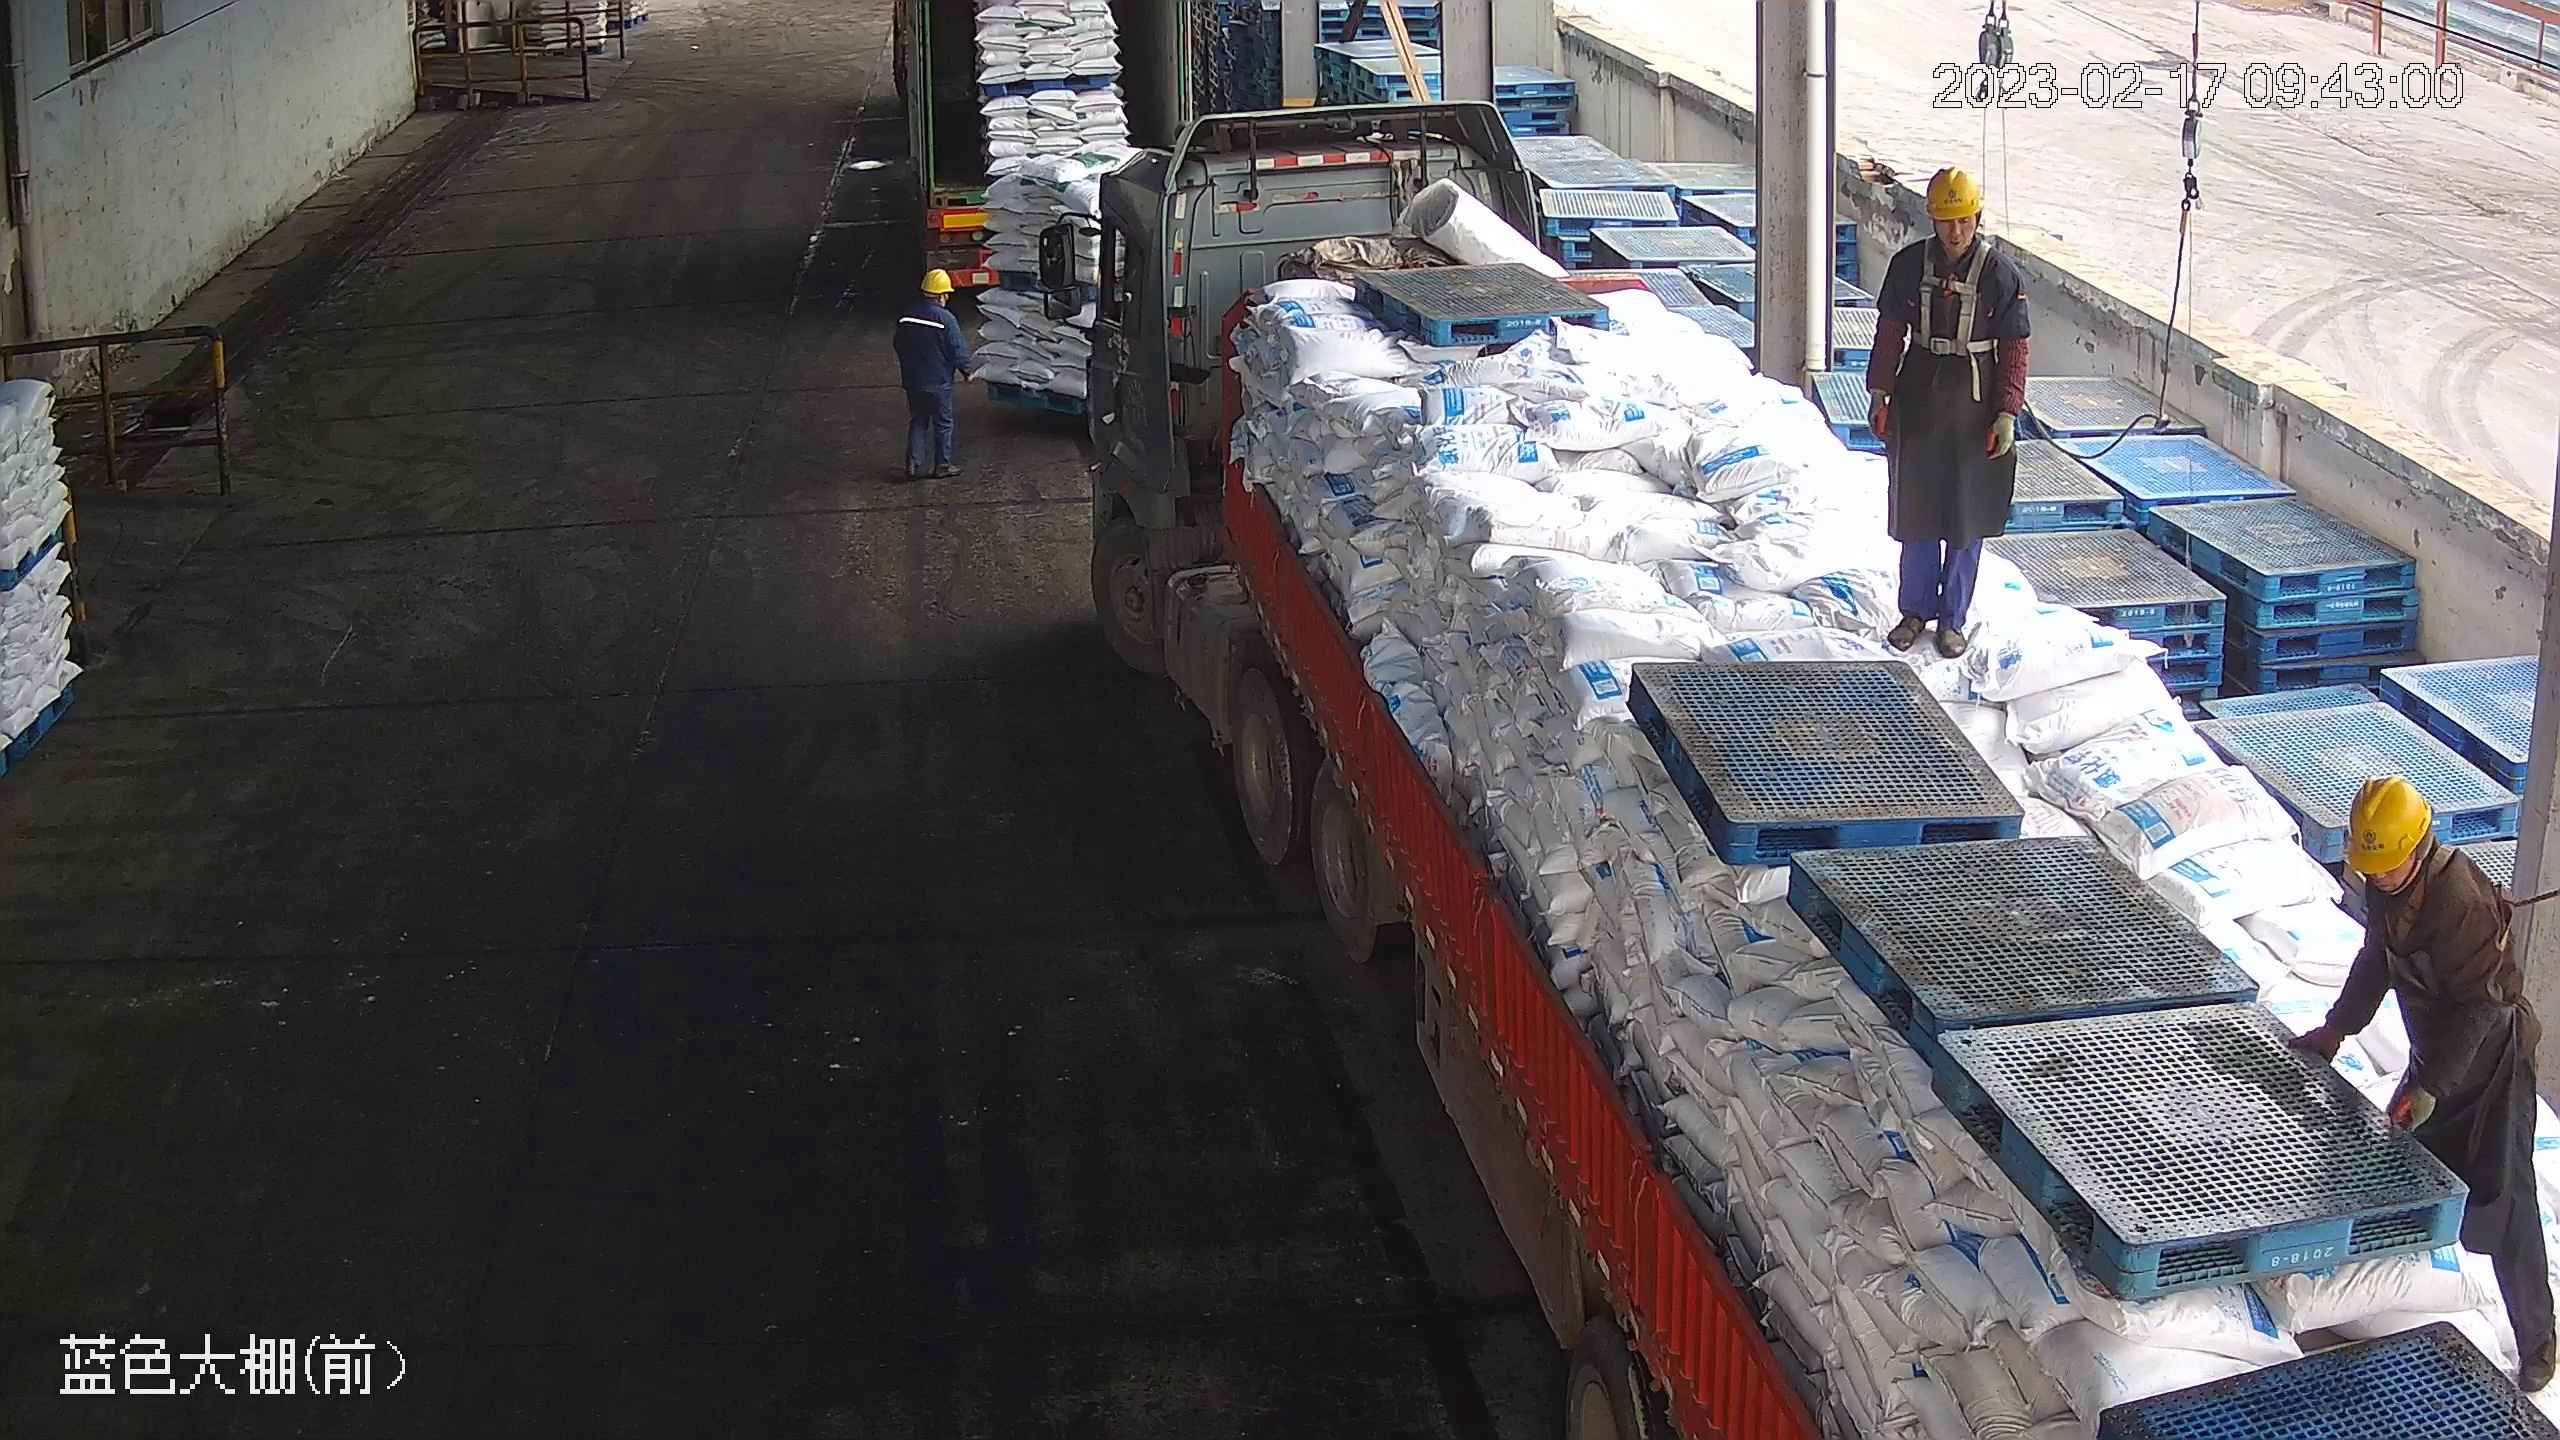belt: (2370, 834, 2516, 977), (1909, 231, 2008, 354)
head: (2325, 773, 2507, 948), (1877, 164, 2023, 298), (898, 266, 961, 333)
helmet: (2337, 771, 2439, 874), (1923, 161, 1985, 220), (918, 267, 954, 294)
people: (2292, 764, 2558, 1403), (1867, 160, 2033, 667), (890, 265, 969, 482)
truck: (1040, 103, 2560, 1440), (891, 2, 1184, 289)
